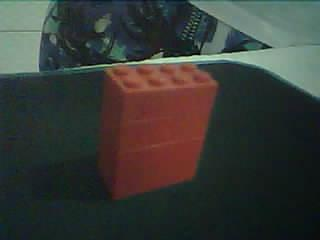lego: (93, 60, 219, 203)
